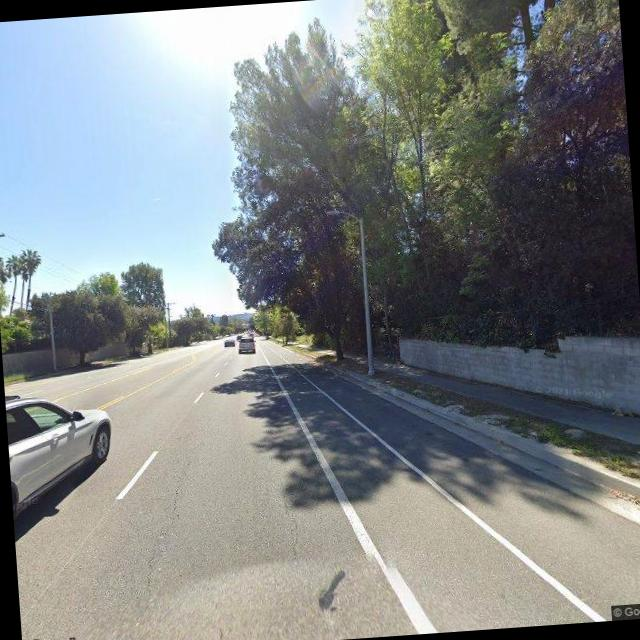pothole: (134, 465, 192, 590)
